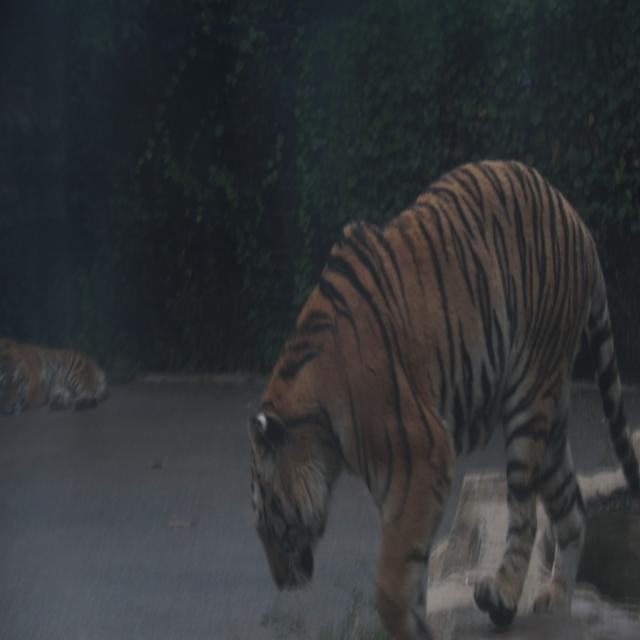Tiger: (217, 132, 635, 640), (0, 314, 115, 412)
